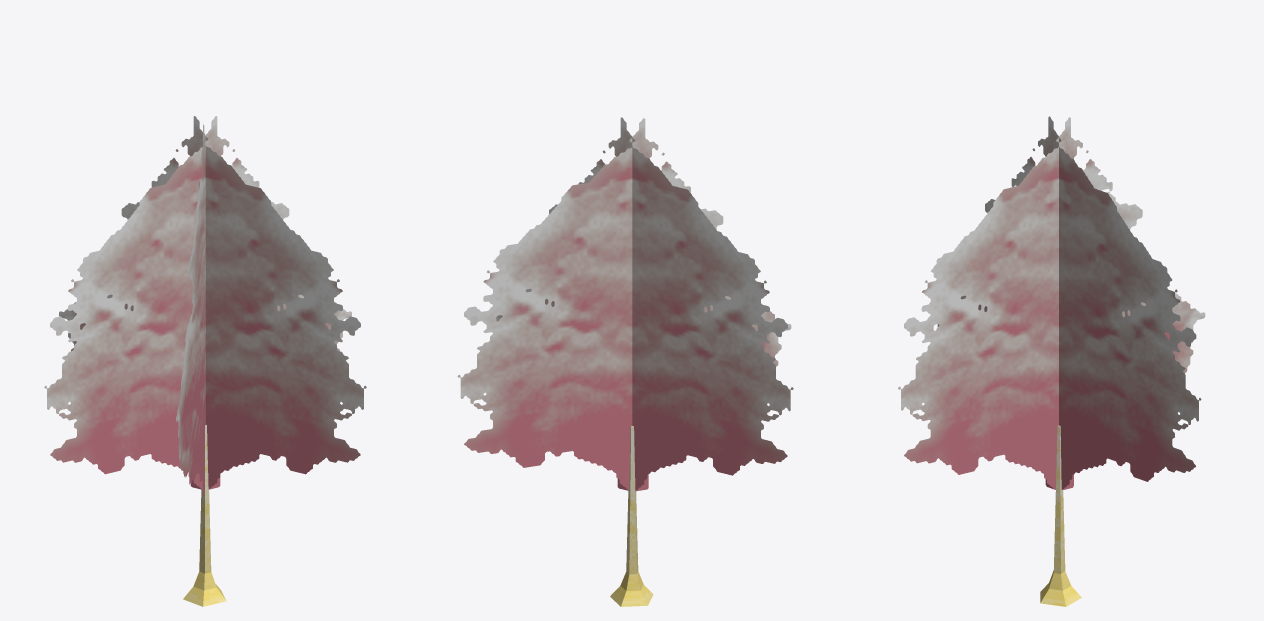
The model's file is SM_CottonCandyTree.fbx.
3 renders of one model, left to right at view 1: azimuth 30°, elevation 25°; view 2: azimuth 150°, elevation 25°; view 3: azimuth 270°, elevation 25°, orthographic.
Visible parts, largest first — view 1: CottonCandyTree; view 2: CottonCandyTree; view 3: CottonCandyTree.
Part boxes in pixels (bbox=[...]): CottonCandyTree: bbox=[44, 116, 366, 606]; CottonCandyTree: bbox=[457, 117, 793, 606]; CottonCandyTree: bbox=[898, 116, 1205, 606].
Bounding box in the file's own units: 1403 × 1723 × 1215.
